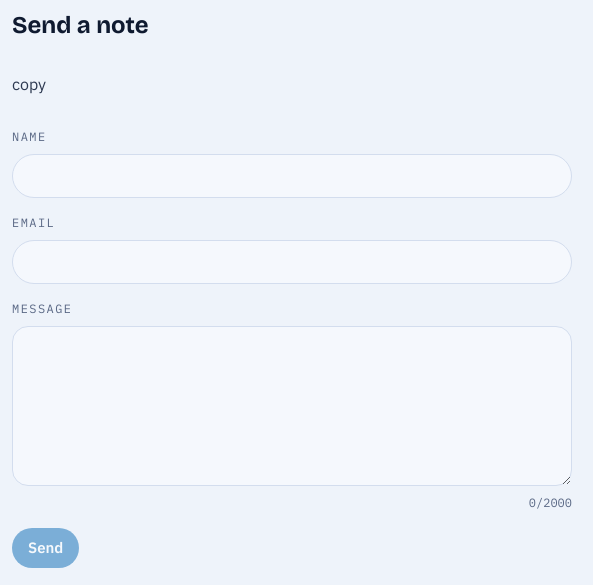
Test: ContactForm submit › submit is disabled until all fields pass validation
The width and height of the screenshot is (593, 585).
Check: the button with test id "contact-submit" is disabled, box [12,528,79,568]
Type "Bob" into the field labelled "Name". click: (292, 176)
box: [12,154,572,198]
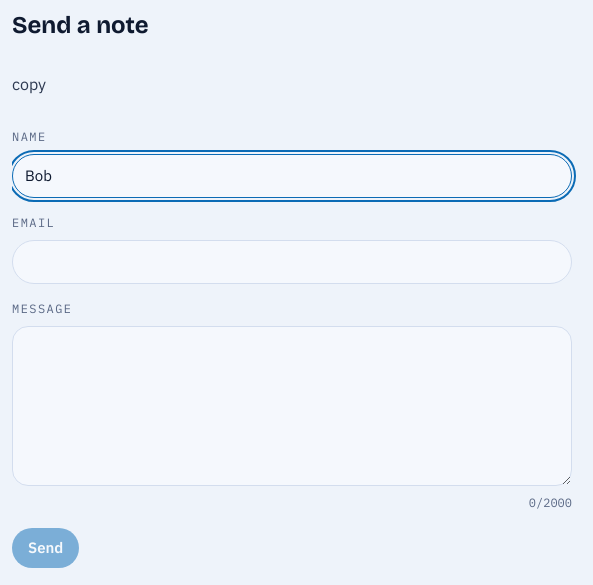
Type "b@x.co" into the field labelled "Email". click: (292, 262)
box: [12,240,572,284]
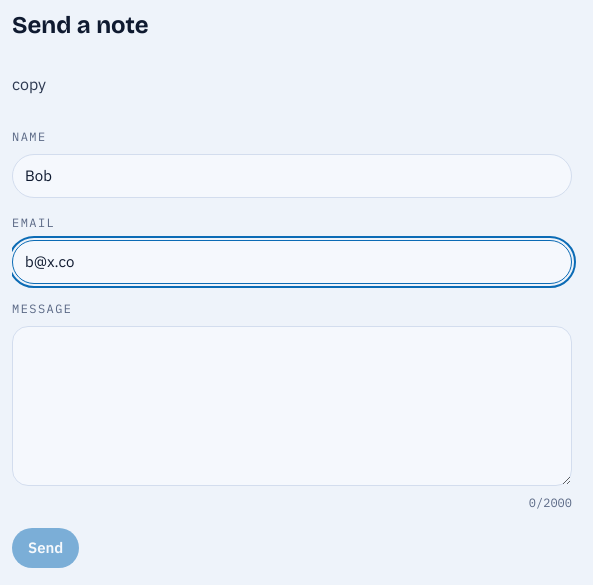
Check: the button with test id "contact-submit" is disabled, box [12,528,79,568]
Type "hi" into the text box labelled "Message". click: (292, 406)
box: [12,326,572,486]
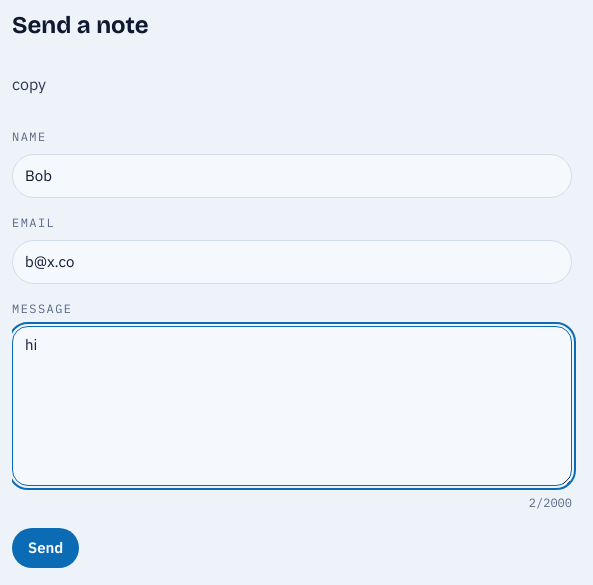
Check: the button with test id "contact-submit" is enabled, box [12,528,79,568]
